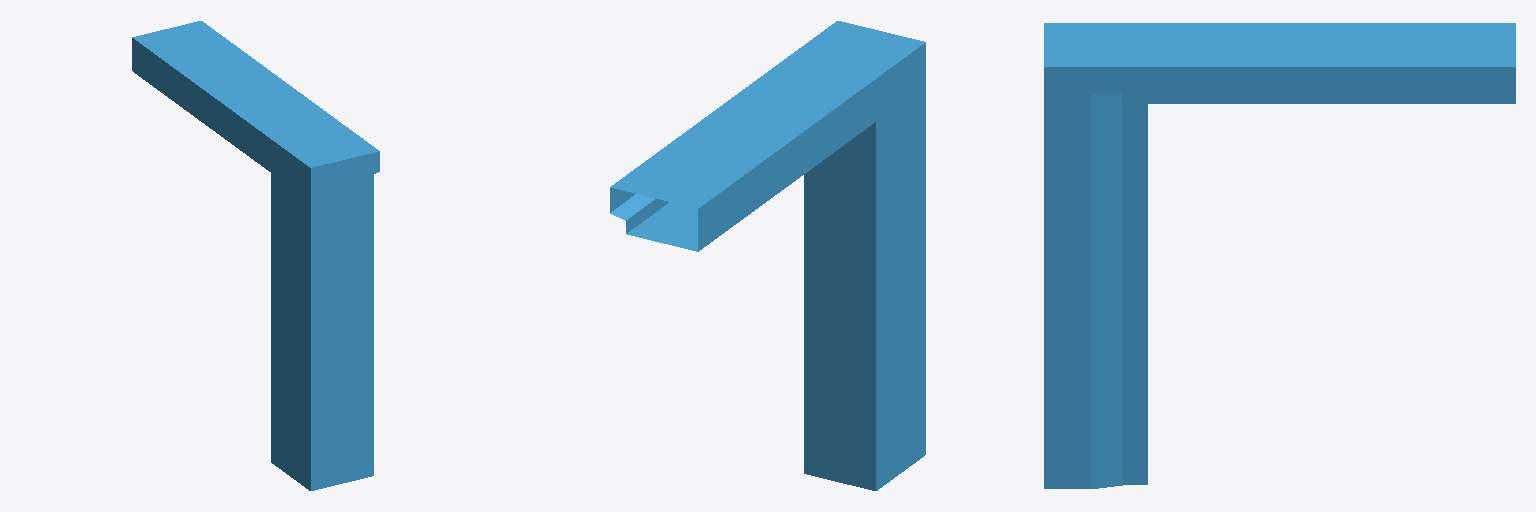
URDF robot description (partnet_f0a5f6d2cf8fcb72c12d8e00a78db6e2):
<?xml version="1.0" ?>
<robot name="partnet_f0a5f6d2cf8fcb72c12d8e00a78db6e2">
	<link name="base"/>
	<link name="link_0">
		<visual name="lid-7">
			<origin xyz="-0.007005959241653967 0 -0.007542109902568375"/>
			<geometry>
				<mesh filename="textured_objs/original-7.obj" scale="0.15 0.15 0.15"/>
			</geometry>
		</visual>
		<collision>
			<origin xyz="-0.007005959241653967 0 -0.007542109902568375"/>
			<geometry>
				<mesh filename="textured_objs/original-7.obj" scale="0.15 0.15 0.15"/>
			</geometry>
		</collision>
	</link>
	<joint name="joint_0" type="fixed">
		<origin xyz="0.0 0 0.0"/>
		<axis xyz="0 1 0"/>
		<child link="link_0"/>
		<parent link="link_0_helper"/>
	</joint>
	<link name="link_1">
		<visual name="body-5">
			<origin xyz="0 0 0"/>
			<geometry>
				<mesh filename="textured_objs/original-4.obj" scale="0.15 0.15 0.15"/>
			</geometry>
		</visual>
		<visual name="body-5">
			<origin xyz="0 0 0"/>
			<geometry>
				<mesh filename="textured_objs/original-3.obj" scale="0.15 0.15 0.15"/>
			</geometry>
		</visual>
		<visual name="body-5">
			<origin xyz="0 0 0"/>
			<geometry>
				<mesh filename="textured_objs/original-8.obj" scale="0.15 0.15 0.15"/>
			</geometry>
		</visual>
		<visual name="body-5">
			<origin xyz="0 0 0"/>
			<geometry>
				<mesh filename="textured_objs/original-6.obj" scale="0.15 0.15 0.15"/>
			</geometry>
		</visual>
		<visual name="body-5">
			<origin xyz="0 0 0"/>
			<geometry>
				<mesh filename="textured_objs/original-2.obj" scale="0.15 0.15 0.15"/>
			</geometry>
		</visual>
		<visual name="neck-6">
			<origin xyz="0 0 0"/>
			<geometry>
				<mesh filename="textured_objs/original-5.obj" scale="0.15 0.15 0.15"/>
			</geometry>
		</visual>
		<collision>
			<origin xyz="0 0 0"/>
			<geometry>
				<mesh filename="textured_objs/original-4.obj" scale="0.15 0.15 0.15"/>
			</geometry>
		</collision>
		<collision>
			<origin xyz="0 0 0"/>
			<geometry>
				<mesh filename="textured_objs/original-3.obj" scale="0.15 0.15 0.15"/>
			</geometry>
		</collision>
		<collision>
			<origin xyz="0 0 0"/>
			<geometry>
				<mesh filename="textured_objs/original-8.obj" scale="0.15 0.15 0.15"/>
			</geometry>
		</collision>
		<collision>
			<origin xyz="0 0 0"/>
			<geometry>
				<mesh filename="textured_objs/original-6.obj" scale="0.15 0.15 0.15"/>
			</geometry>
		</collision>
		<collision>
			<origin xyz="0 0 0"/>
			<geometry>
				<mesh filename="textured_objs/original-2.obj" scale="0.15 0.15 0.15"/>
			</geometry>
		</collision>
		<collision>
			<origin xyz="0 0 0"/>
			<geometry>
				<mesh filename="textured_objs/original-5.obj" scale="0.15 0.15 0.15"/>
			</geometry>
		</collision>
	</link>
	<joint name="joint_1" type="fixed">
		<origin rpy="1.570796326794897 0 -1.570796326794897" xyz="0 0 0"/>
		<child link="link_1"/>
		<parent link="base"/>
	</joint>
	<link name="link_0_helper"/>
	<joint name="joint_2" type="fixed">
		<origin xyz="0.007005959241653967 0 0.007542109902568375"/>
		<axis xyz="0 1 0"/>
		<child link="link_0_helper"/>
		<parent link="link_1"/>
		<limit lower="0" upper="0.06400000000000006"/>
	</joint>
</robot>

--- Facts derived from the render (not from the file) ---
Views: 3 orthographic renders of the robot side by side, from view 1: azimuth 30°, elevation 25°; view 2: azimuth 150°, elevation 25°; view 3: azimuth 270°, elevation 25°.
Model partnet_f0a5f6d2cf8fcb72c12d8e00a78db6e2 with 4 links and 3 joints (3 fixed), rooted at base, posed all joints at 0.
Links seen in each view (by area): view 1: link_0; view 2: link_0; view 3: link_0.
Boxes of the visible links, x1,y1,x2,y2 form: link_0: (132, 21, 379, 490); link_0: (610, 21, 925, 490); link_0: (1044, 23, 1515, 488).
Size in the robot's own frame: 0.0043 by 0.0191 by 0.0191 metres.
Meshes: 7 distinct files referenced, 1 mesh visuals loaded (1 OBJ); not drawn: 6 (reference not matched to a file when rendering).